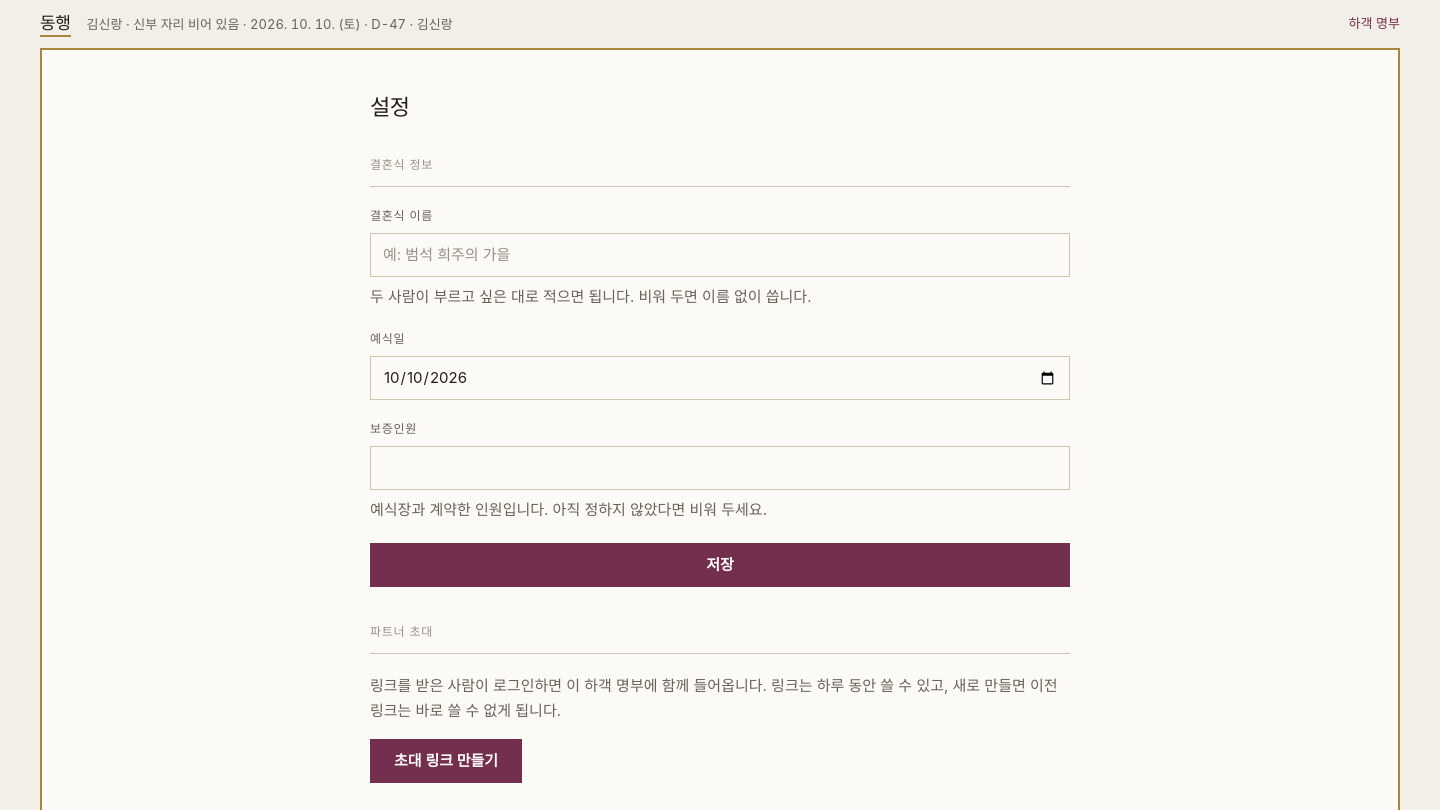
takes the button away when the partner joined while this tab was open
Click the button "초대 링크 만들기".
click(446, 761)  # box left=370, top=739, right=522, bottom=783
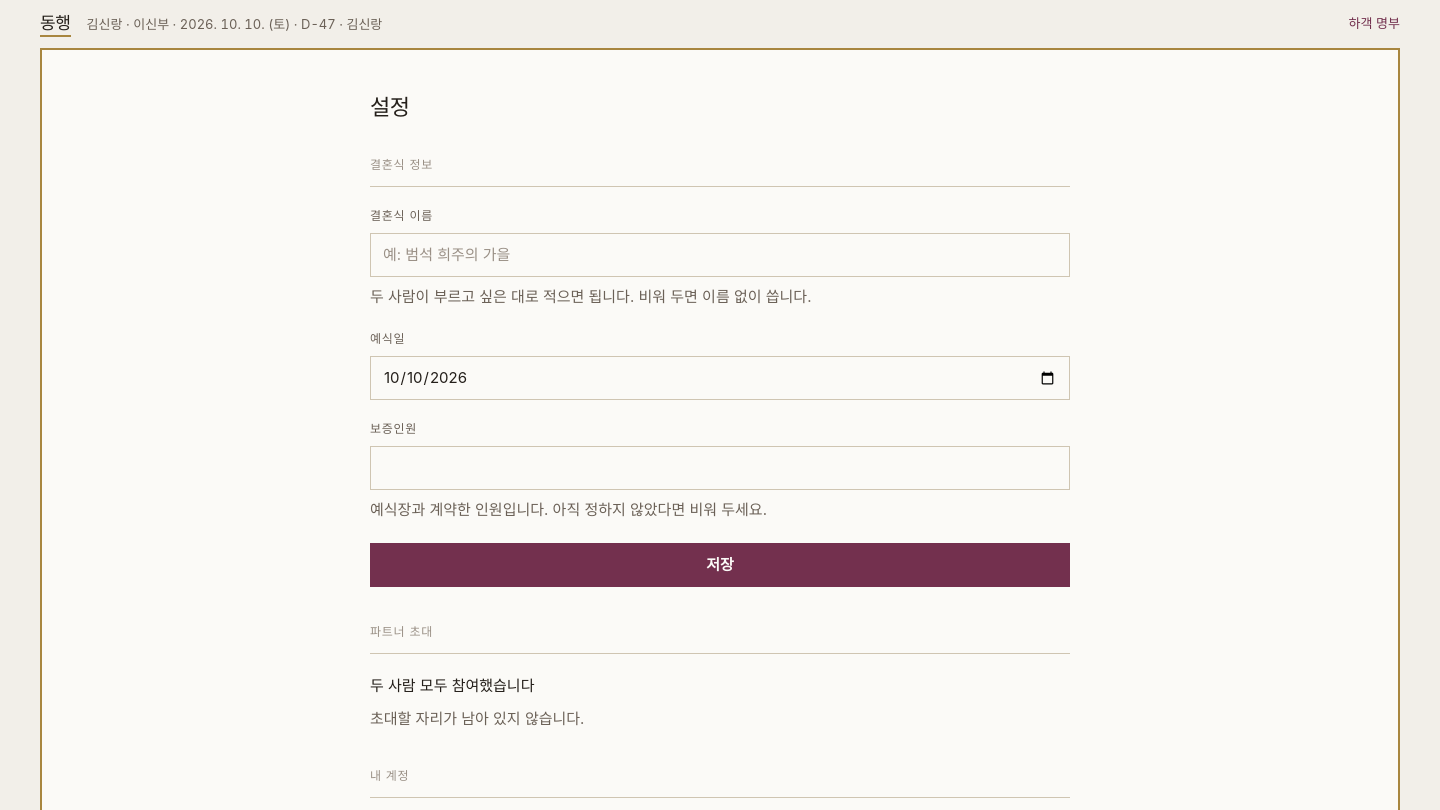
Check: the text "두 사람 모두 참여했습니다" is shown, box left=370, top=676, right=534, bottom=695
Check: the button "초대 링크 만들기" is gone
